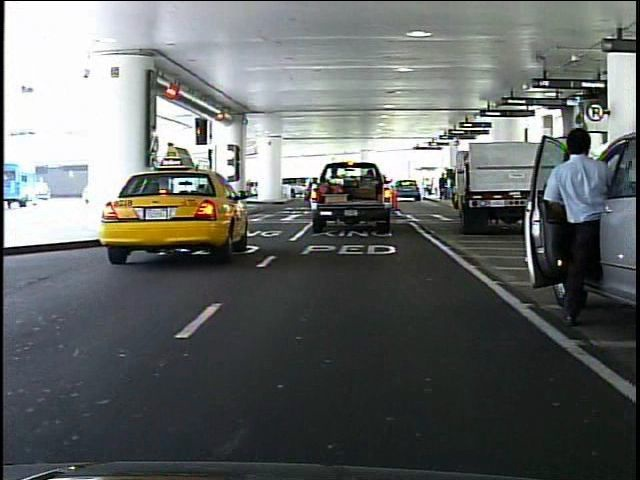person: (544, 123, 615, 328), (204, 167, 223, 213)
